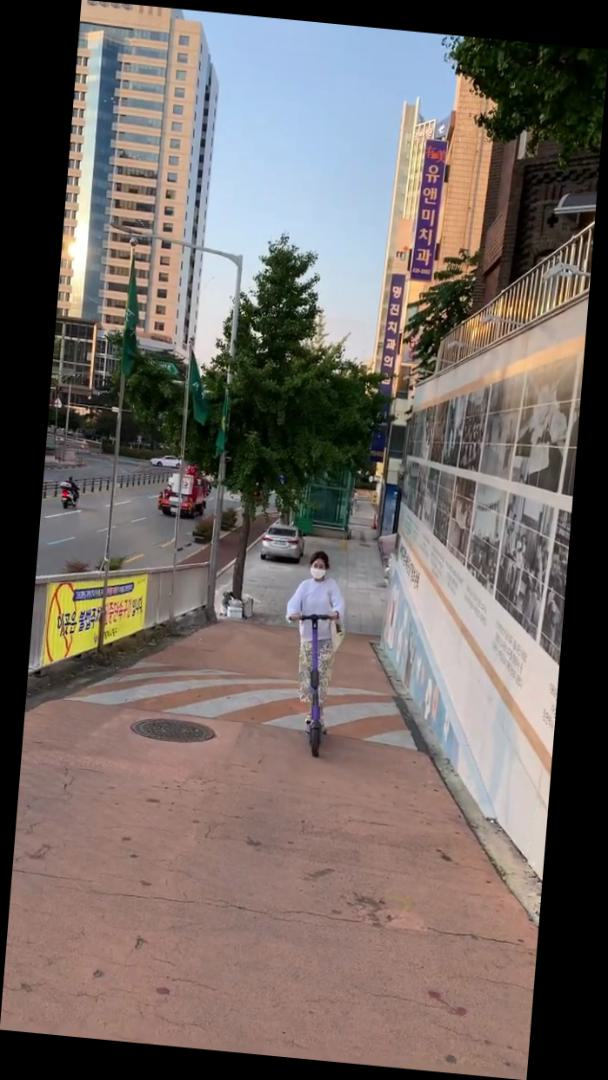nonhelmet: (270, 544, 357, 762)
